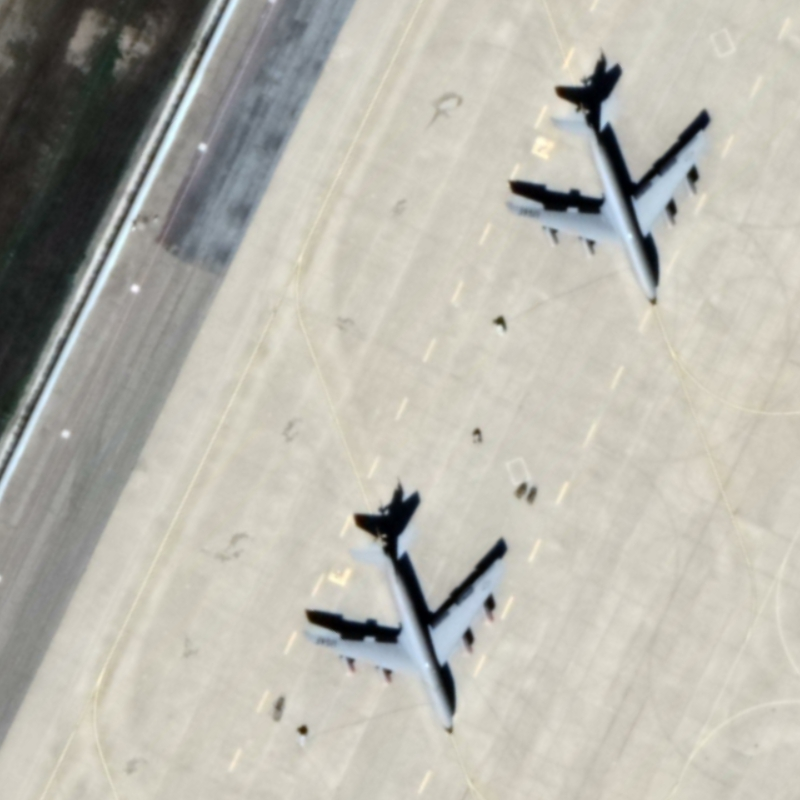A14: (499, 92, 724, 311), (304, 522, 510, 738)
